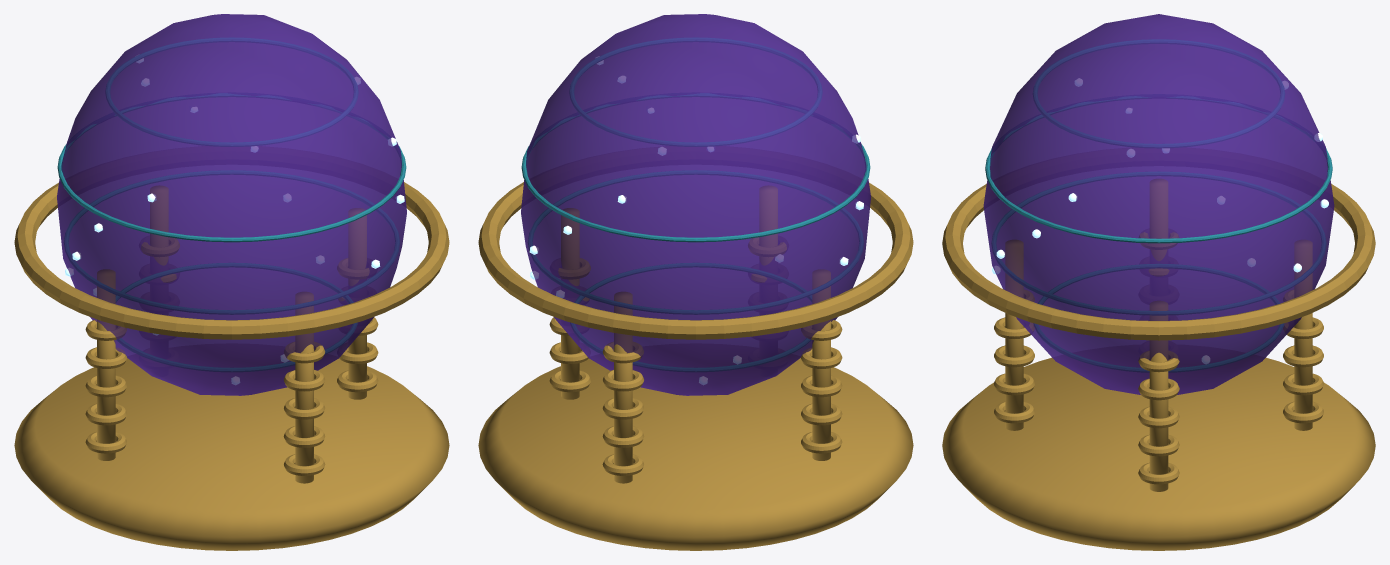
3 renders of one model, left to right at view 1: azimuth 30°, elevation 25°; view 2: azimuth 150°, elevation 25°; view 3: azimuth 270°, elevation 25°, orthographic.
Parts seen in each view (by area): view 1: TI058 / separate globe, TI058 / gold stand foot, TI058 / equatorial stand, TI058 / holographic latitude.001, TI058 / holographic latitude.002, TI058 / holographic latitude.003, TI058 / turned stand pillar.003, TI058 / turned stand pillar.002, TI058 / holographic latitude, TI058 / turned stand pillar, TI058 / turned stand pillar.001, TI058 / pillar spiral collar.011 (+9 smaller); view 2: TI058 / separate globe, TI058 / gold stand foot, TI058 / equatorial stand, TI058 / holographic latitude.001, TI058 / holographic latitude.002, TI058 / holographic latitude.003, TI058 / turned stand pillar.001, TI058 / turned stand pillar.002, TI058 / holographic latitude, TI058 / turned stand pillar, TI058 / turned stand pillar.003, TI058 / pillar spiral collar.006 (+9 smaller); view 3: TI058 / separate globe, TI058 / gold stand foot, TI058 / equatorial stand, TI058 / holographic latitude.001, TI058 / holographic latitude.002, TI058 / holographic latitude.003, TI058 / turned stand pillar.003, TI058 / holographic latitude, TI058 / turned stand pillar, TI058 / turned stand pillar.001, TI058 / turned stand pillar.002, TI058 / pillar spiral collar.005 (+10 smaller).
Boxes of the visible parts, x1=… form: TI058 / separate globe: x1=57, y1=14, x2=406, y2=395; TI058 / gold stand foot: x1=14, y1=357, x2=449, y2=550; TI058 / equatorial stand: x1=14, y1=182, x2=449, y2=339; TI058 / holographic latitude.001: x1=64, y1=170, x2=399, y2=314; TI058 / holographic latitude.002: x1=57, y1=93, x2=406, y2=242; TI058 / holographic latitude.003: x1=105, y1=37, x2=358, y2=146; TI058 / turned stand pillar.003: x1=295, y1=292, x2=313, y2=483; TI058 / turned stand pillar.002: x1=97, y1=269, x2=115, y2=460; TI058 / holographic latitude: x1=116, y1=263, x2=357, y2=371; TI058 / turned stand pillar: x1=348, y1=208, x2=366, y2=399; TI058 / turned stand pillar.001: x1=150, y1=185, x2=168, y2=265; TI058 / pillar spiral collar.011: x1=85, y1=403, x2=126, y2=425; TI058 / separate globe: x1=521, y1=14, x2=870, y2=395; TI058 / gold stand foot: x1=478, y1=357, x2=913, y2=550; TI058 / equatorial stand: x1=478, y1=182, x2=913, y2=339; TI058 / holographic latitude.001: x1=528, y1=170, x2=863, y2=314; TI058 / holographic latitude.002: x1=521, y1=93, x2=870, y2=242; TI058 / holographic latitude.003: x1=569, y1=37, x2=822, y2=146; TI058 / turned stand pillar.001: x1=614, y1=292, x2=632, y2=483; TI058 / turned stand pillar.002: x1=812, y1=269, x2=830, y2=460; TI058 / holographic latitude: x1=570, y1=263, x2=811, y2=371; TI058 / turned stand pillar: x1=561, y1=208, x2=579, y2=399; TI058 / turned stand pillar.003: x1=759, y1=185, x2=777, y2=265; TI058 / pillar spiral collar.006: x1=602, y1=426, x2=644, y2=447; TI058 / separate globe: x1=983, y1=14, x2=1334, y2=394; TI058 / gold stand foot: x1=942, y1=357, x2=1375, y2=550; TI058 / equatorial stand: x1=942, y1=184, x2=1375, y2=340; TI058 / holographic latitude.001: x1=991, y1=171, x2=1326, y2=315; TI058 / holographic latitude.002: x1=985, y1=96, x2=1332, y2=243; TI058 / holographic latitude.003: x1=1033, y1=39, x2=1284, y2=148; TI058 / turned stand pillar.003: x1=1005, y1=240, x2=1023, y2=430; TI058 / holographic latitude: x1=1034, y1=264, x2=1283, y2=372; TI058 / turned stand pillar: x1=1149, y1=301, x2=1168, y2=491; TI058 / turned stand pillar.001: x1=1294, y1=240, x2=1312, y2=430; TI058 / turned stand pillar.002: x1=1150, y1=179, x2=1167, y2=260; TI058 / pillar spiral collar.005: x1=1283, y1=401, x2=1323, y2=423.
Bounding box in the file's own units: 2.1 × 2.35 × 2.1.
